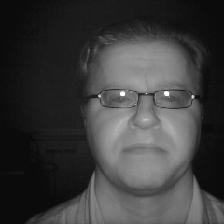normal: (72, 16, 211, 191)
